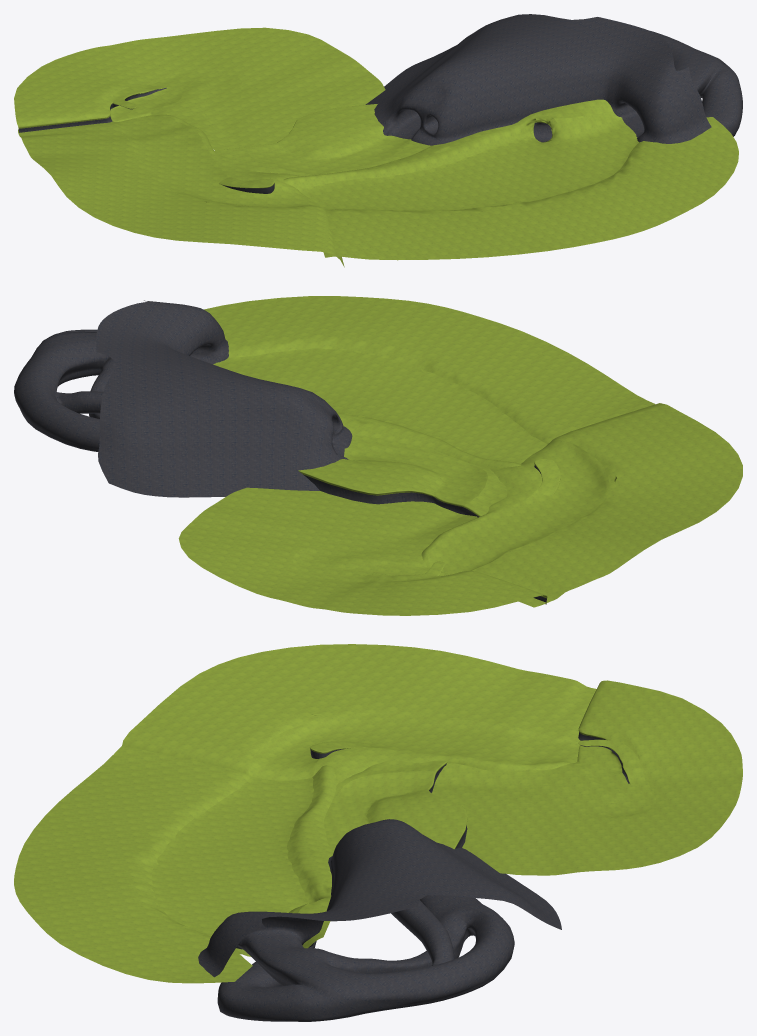
The model's file is scen_uv_obj_01.obj.
The picture shows the model from 3 angles, top to bottom: view 1: azimuth 30°, elevation 25°; view 2: azimuth 150°, elevation 25°; view 3: azimuth 270°, elevation 25°; orthographic projection. The views are drawn at different scales.
Visible parts, largest first — view 1: uv_desert_rock.001, uv_desert_grass.001, uv_start_grass, uv_half_pipe_grass.001, uv_desert_grass, uv_half_pipe_grass, uv_finish_grass.001, uv_start_grass.001, uv_finish_grass, uv_start_rock, uv_ramp_grass; view 2: uv_desert_rock.001, uv_desert_grass.001, uv_half_pipe_grass.001, uv_start_grass, uv_desert_grass, uv_half_pipe_grass, uv_start_grass.001, uv_finish_grass.001, uv_finish_grass, uv_finish_rock, uv_ramp_grass; view 3: uv_desert_rock.001, uv_desert_grass.001, uv_half_pipe_grass.001, uv_start_grass, uv_desert_grass, uv_half_pipe_grass, uv_start_grass.001, uv_finish_grass.001, uv_finish_grass.
Boxes of the visible parts, left/top/right/bottom form: uv_desert_rock.001: left=365, top=14, right=742, bottom=145; uv_desert_grass.001: left=283, top=99, right=738, bottom=260; uv_start_grass: left=14, top=27, right=385, bottom=150; uv_half_pipe_grass.001: left=18, top=114, right=344, bottom=267; uv_desert_grass: left=299, top=111, right=638, bottom=210; uv_half_pipe_grass: left=115, top=115, right=320, bottom=207; uv_finish_grass.001: left=214, top=104, right=431, bottom=176; uv_start_grass.001: left=110, top=68, right=268, bottom=148; uv_finish_grass: left=239, top=135, right=411, bottom=174; uv_start_rock: left=18, top=87, right=166, bottom=132; uv_ramp_grass: left=219, top=177, right=274, bottom=188; uv_desert_rock.001: left=14, top=300, right=352, bottom=497; uv_desert_grass.001: left=204, top=296, right=654, bottom=467; uv_half_pipe_grass.001: left=421, top=403, right=742, bottom=607; uv_start_grass: left=178, top=487, right=547, bottom=615; uv_desert_grass: left=213, top=348, right=547, bottom=463; uv_half_pipe_grass: left=426, top=439, right=609, bottom=574; uv_start_grass.001: left=293, top=503, right=464, bottom=581; uv_finish_grass.001: left=298, top=434, right=507, bottom=516; uv_finish_grass: left=344, top=446, right=487, bottom=507; uv_finish_rock: left=303, top=474, right=478, bottom=517; uv_ramp_grass: left=534, top=458, right=560, bottom=496; uv_desert_rock.001: left=198, top=819, right=561, bottom=1021; uv_desert_grass.001: left=14, top=745, right=336, bottom=983; uv_half_pipe_grass.001: left=122, top=644, right=596, bottom=785; uv_start_grass: left=436, top=680, right=742, bottom=875; uv_desert_grass: left=152, top=777, right=313, bottom=956; uv_half_pipe_grass: left=248, top=713, right=579, bottom=780; uv_start_grass.001: left=432, top=739, right=656, bottom=817; uv_finish_grass.001: left=324, top=760, right=467, bottom=851; uv_finish_grass: left=331, top=770, right=436, bottom=837.
Bounding box in the file's own units: 19882 × 2322 × 17292.
3 materials, 3 textured.
